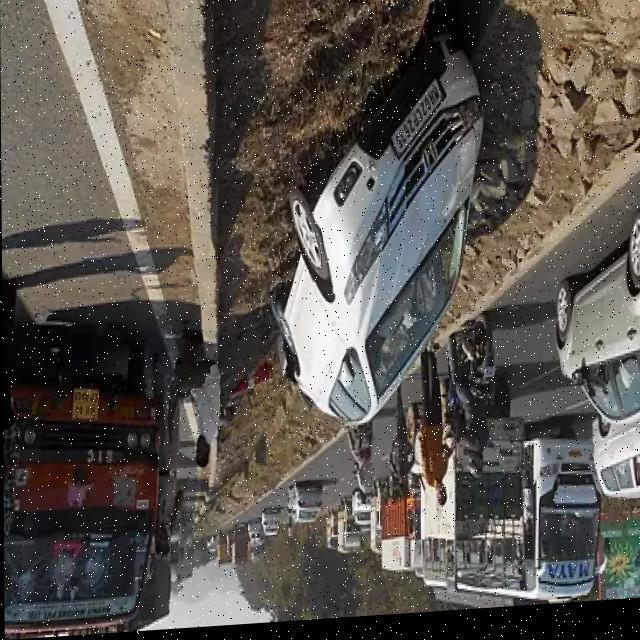plate: (386, 81, 447, 173), (70, 385, 99, 427), (484, 372, 496, 388)
